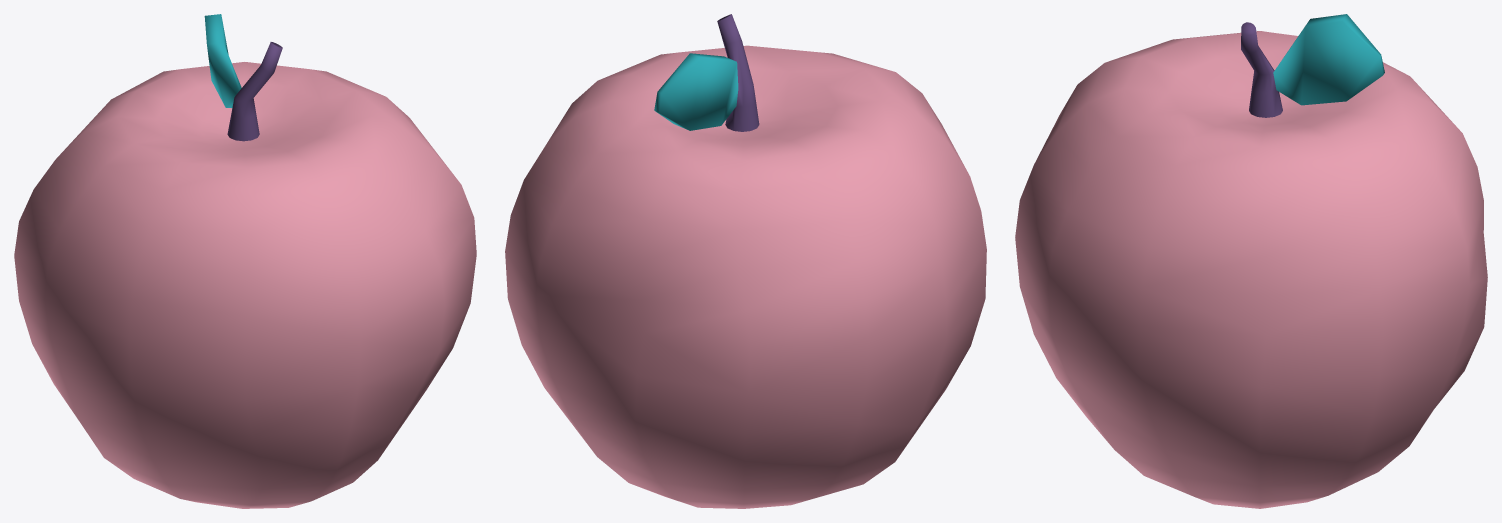
Rendered from apple.glb.
The picture shows the model from 3 angles, left to right: view 1: azimuth 30°, elevation 25°; view 2: azimuth 150°, elevation 25°; view 3: azimuth 270°, elevation 25°; orthographic projection. The views are drawn at different scales.
Parts seen in each view (by area): view 1: Sphere; view 2: Sphere; view 3: Sphere.
Boxes of the visible parts, bbox=[...] form: Sphere: bbox=[14, 14, 476, 508]; Sphere: bbox=[505, 14, 986, 508]; Sphere: bbox=[1015, 14, 1487, 508].
Bounding box in the file's own units: 0.3551 × 0.3766 × 0.3516.
